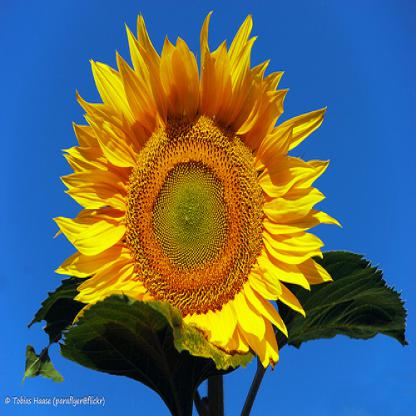SUN FLOWER: (51, 7, 351, 382)
